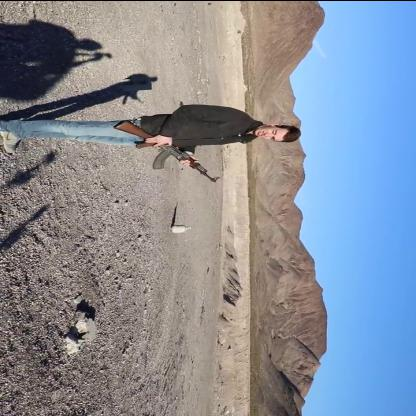long weapon: (112, 115, 224, 192)
